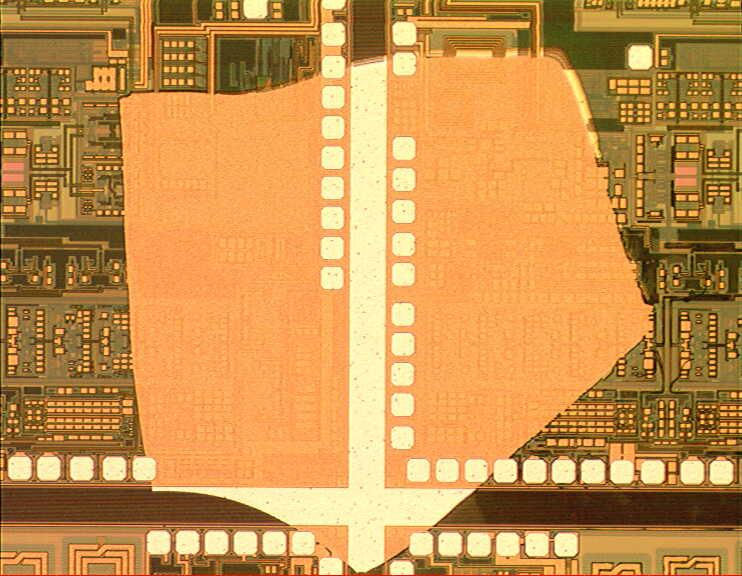BLOCK ETCH: (117, 43, 657, 576)
